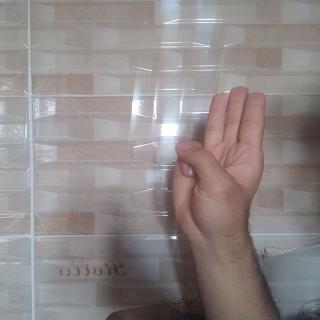THA: (159, 82, 281, 260)
